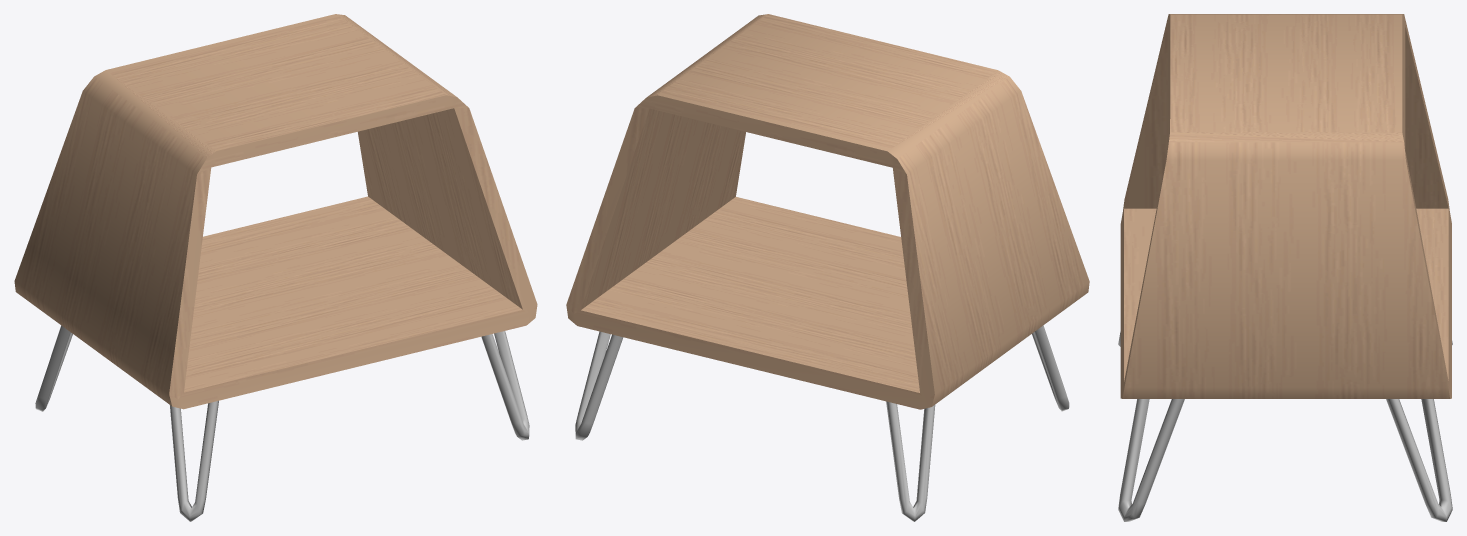
Rendered from Open_End_Table_03.FBX.
The picture shows the model from 3 angles, left to right: view 1: azimuth 30°, elevation 25°; view 2: azimuth 150°, elevation 25°; view 3: azimuth 270°, elevation 25°; orthographic projection. The views are drawn at different scales.
Parts seen in each view (by area): view 1: End_table; view 2: End_table; view 3: End_table.
Part boxes in pixels (x1,y1,x2,y2): End_table: (14, 14, 537, 521); End_table: (566, 14, 1089, 521); End_table: (1118, 14, 1452, 521).
Size of the model in its own units: 134 by 120 by 101.
